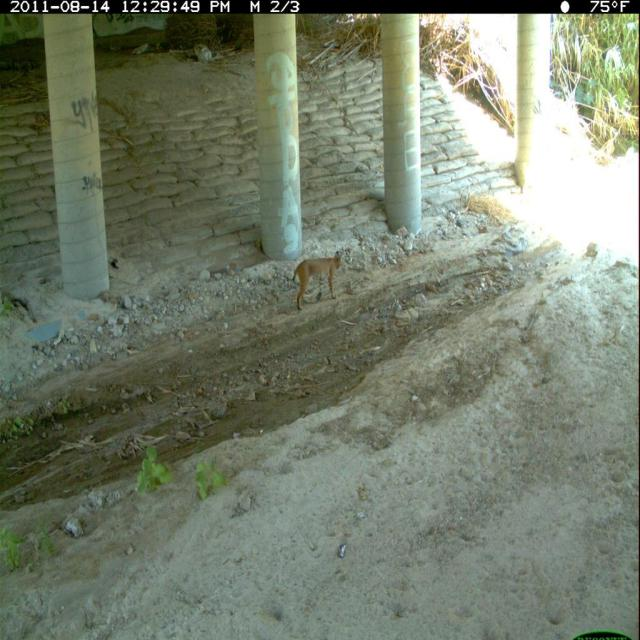bobcat: (290, 245, 348, 316)
